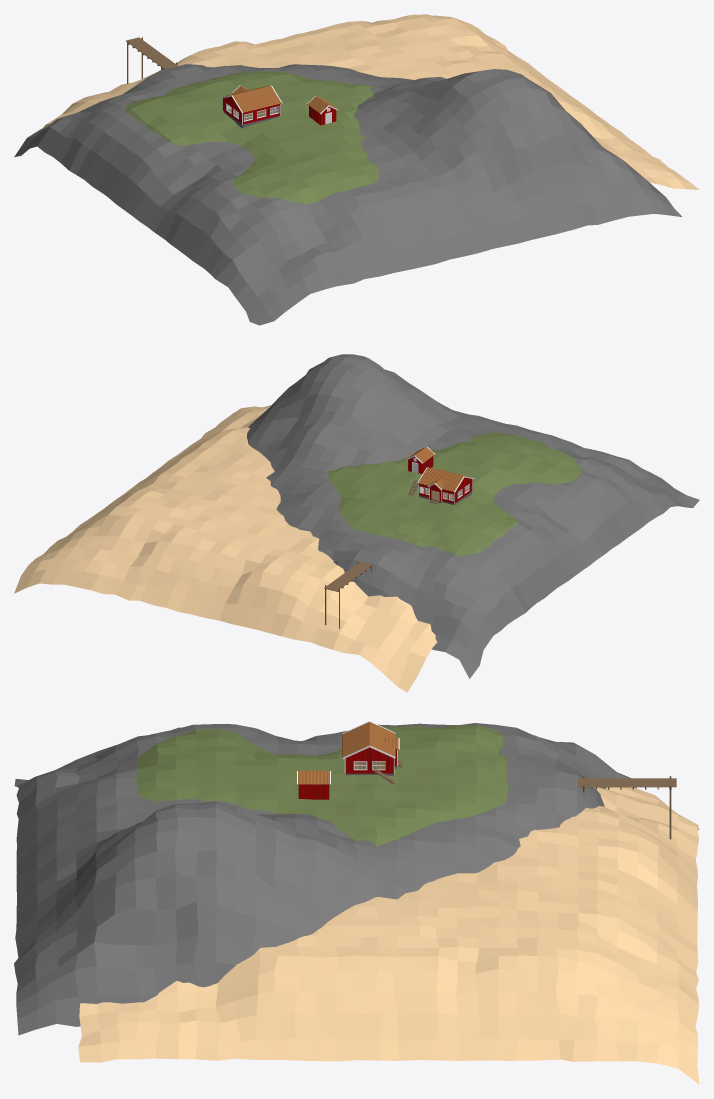
The model's file is Combined Mesh (root_ scene).glb.
3 views of the same model, one above another, from view 1: azimuth 30°, elevation 25°; view 2: azimuth 150°, elevation 25°; view 3: azimuth 270°, elevation 25° (orthographic). The views are drawn at different scales.
Parts seen in each view (by area): view 1: Combined Mesh (root_ scene); view 2: Combined Mesh (root_ scene); view 3: Combined Mesh (root_ scene).
Boxes of the visible parts, x1=… form: Combined Mesh (root_ scene): x1=14, y1=14, x2=699, y2=325; Combined Mesh (root_ scene): x1=14, y1=354, x2=699, y2=692; Combined Mesh (root_ scene): x1=14, y1=721, x2=699, y2=1084.
Bounding box in the file's own units: 111 × 32.08 × 111.
1 material, 1 textured.
